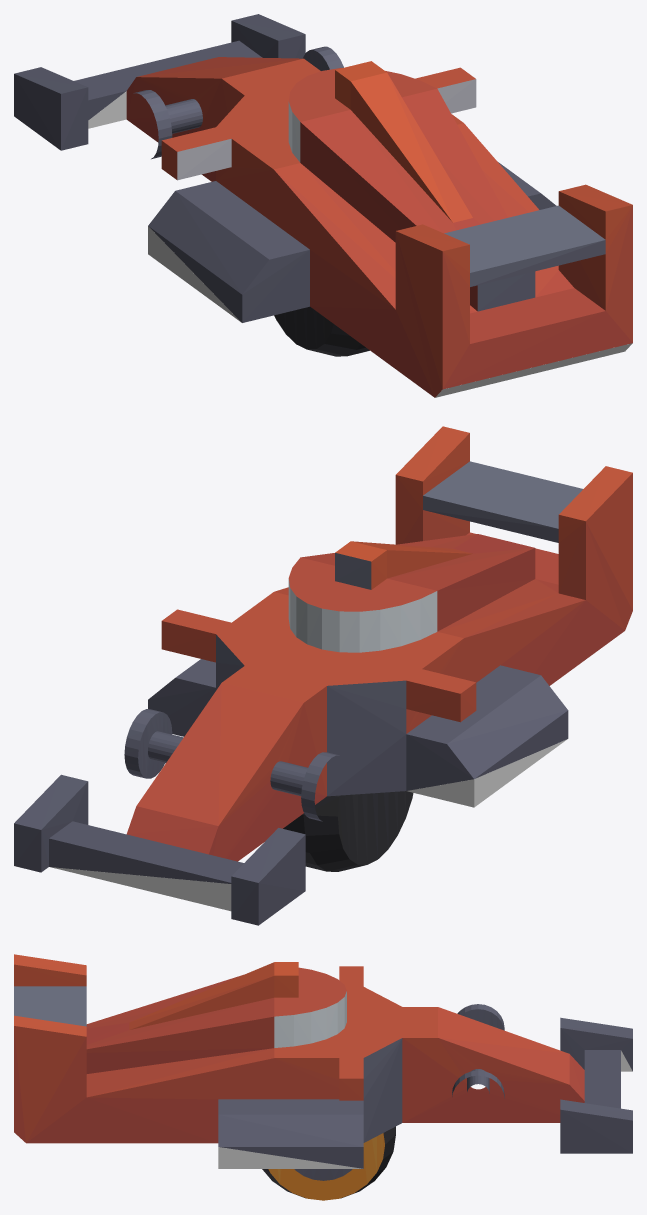
The model's file is race.glb.
3 renders of one model, top to bottom at view 1: azimuth 30°, elevation 25°; view 2: azimuth 150°, elevation 25°; view 3: azimuth 270°, elevation 25°, orthographic. The views are drawn at different scales.
Visible parts, largest first — view 1: trim, paint, wheel; view 2: trim, wheel, paint; view 3: trim, wheel, paint.
Boxes of the visible parts, x1,y1,x2,y2 form: trim: [14, 14, 632, 397]; paint: [88, 91, 632, 397]; wheel: [274, 306, 369, 356]; trim: [14, 426, 632, 925]; wheel: [283, 791, 413, 871]; paint: [50, 739, 567, 911]; trim: [14, 954, 632, 1168]; wheel: [262, 1126, 395, 1200]; paint: [218, 1050, 632, 1168].
Size of the model in its own units: 1.2 by 1.03 by 2.56.
